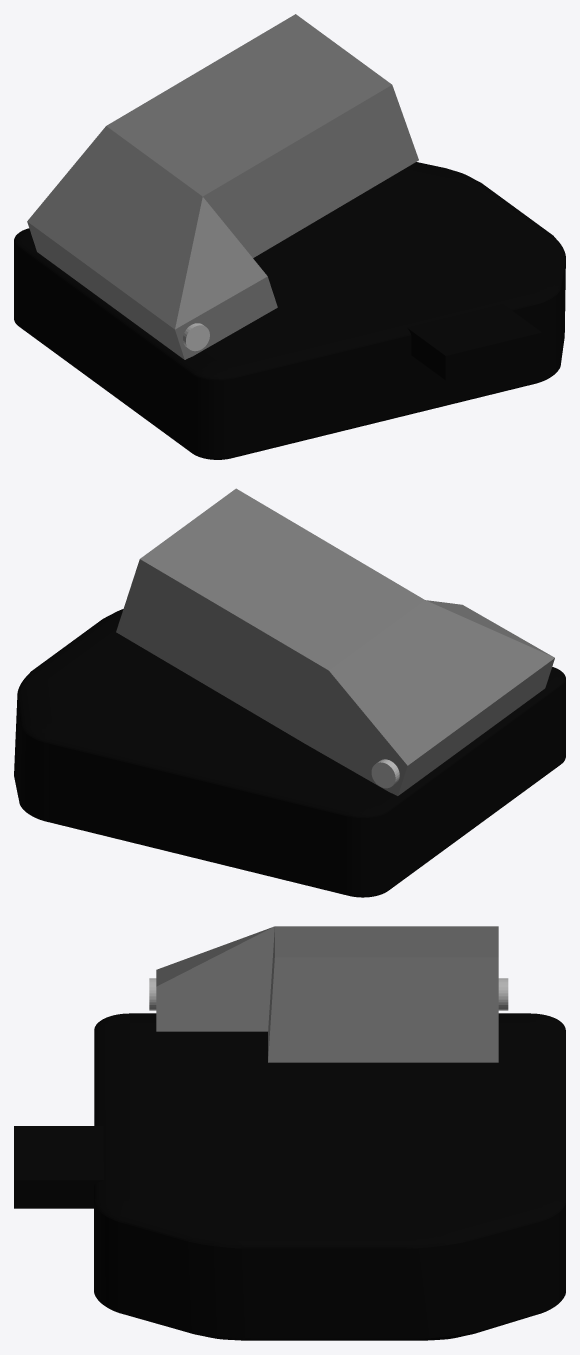
Rendered from skal.fbx.
3 views of the same model, one above another, from view 1: azimuth 30°, elevation 25°; view 2: azimuth 150°, elevation 25°; view 3: azimuth 270°, elevation 25° (orthographic). The views are drawn at different scales.
Parts seen in each view (by area): view 1: Cube; view 2: Cube; view 3: Cube.
Boxes of the visible parts, x1,y1,x2,y2 form: Cube: (14, 14, 565, 459); Cube: (14, 488, 565, 897); Cube: (14, 926, 565, 1340).
Bounding box in the file's own units: 237 × 143 × 234.
